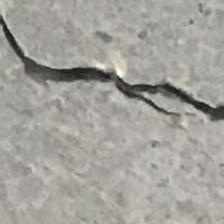Crack: (0, 9, 224, 153)
